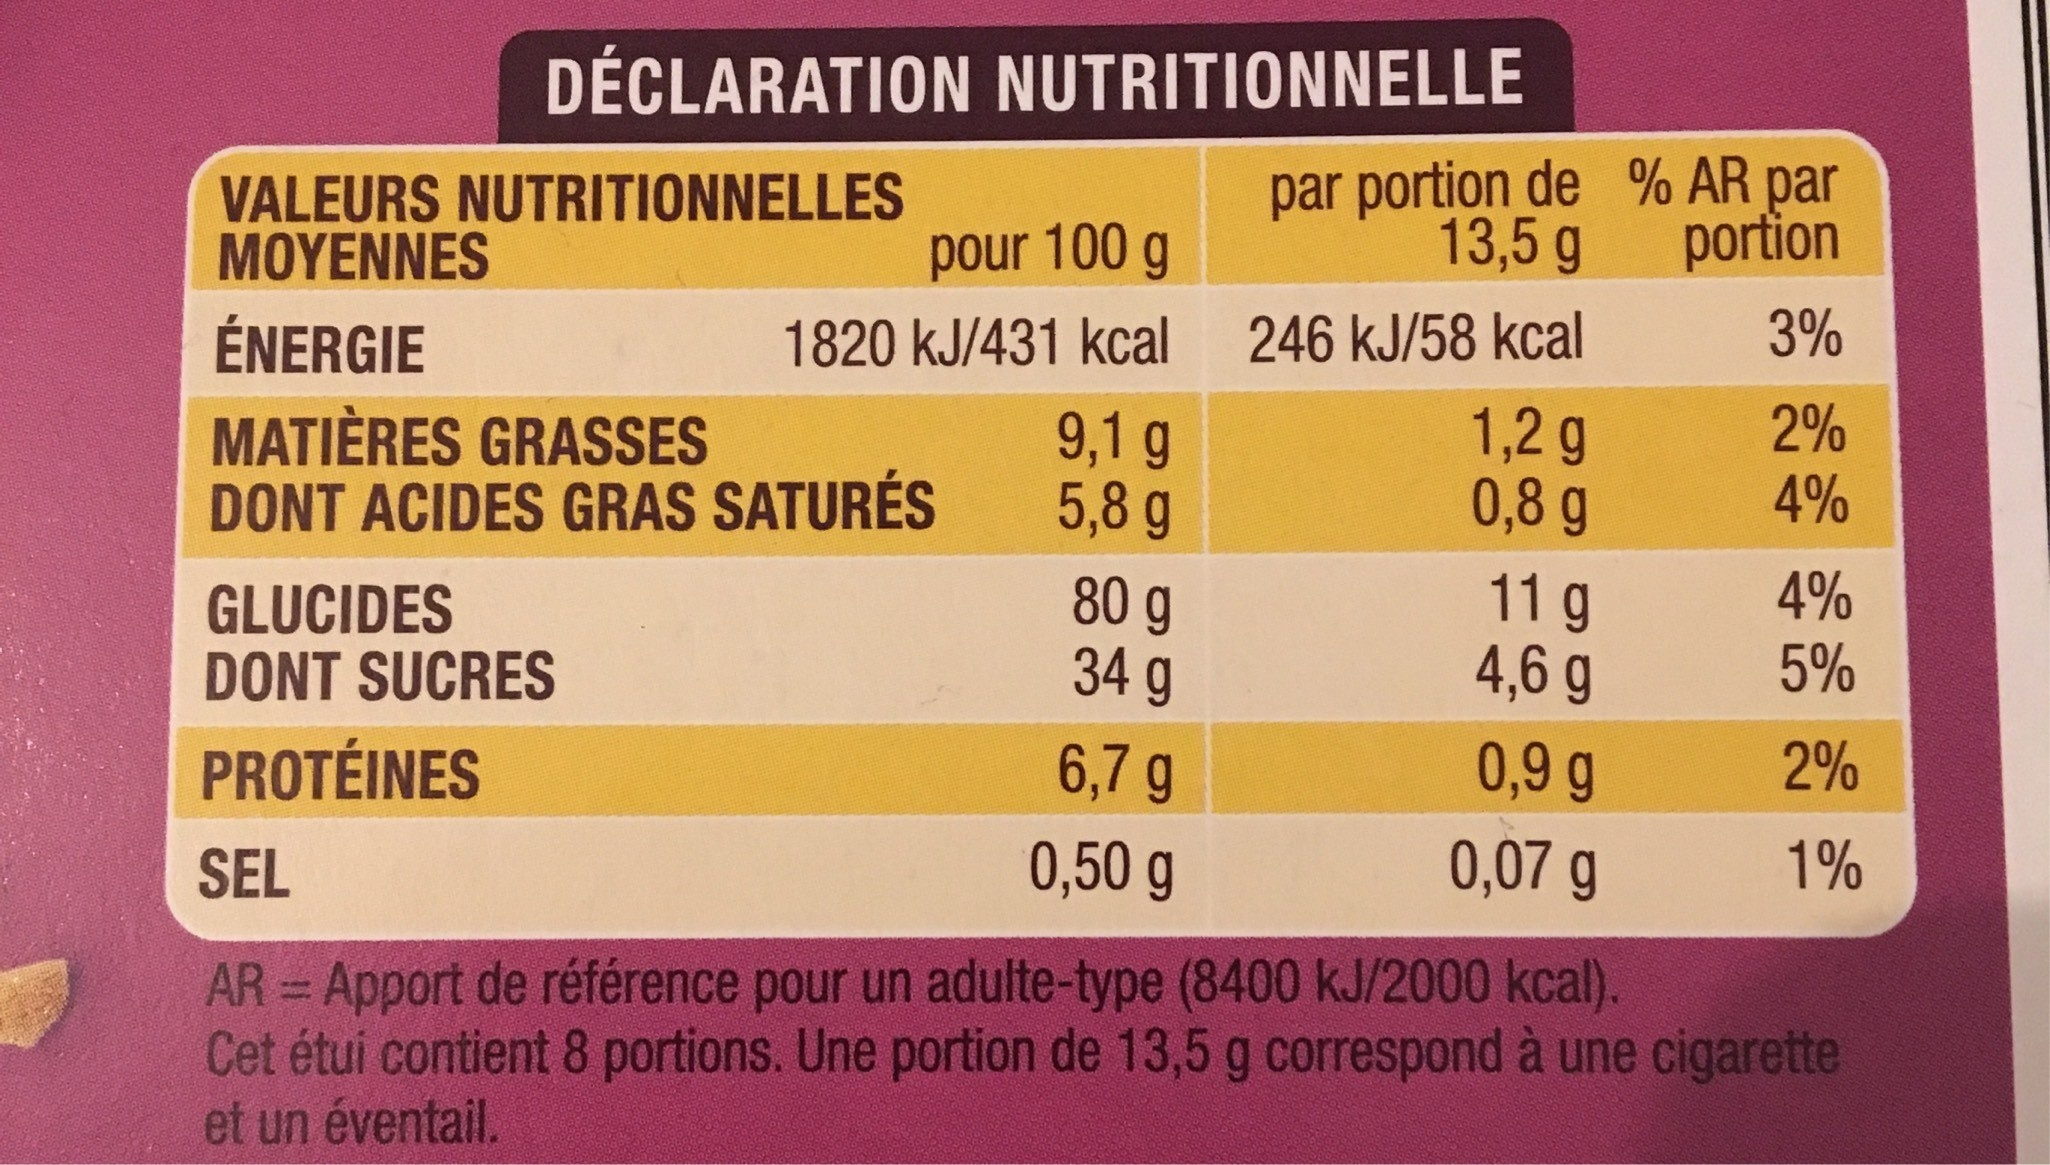column: (204, 165, 1176, 910), (1247, 149, 1598, 916), (1625, 147, 1878, 918)
table: (169, 135, 1920, 949)
